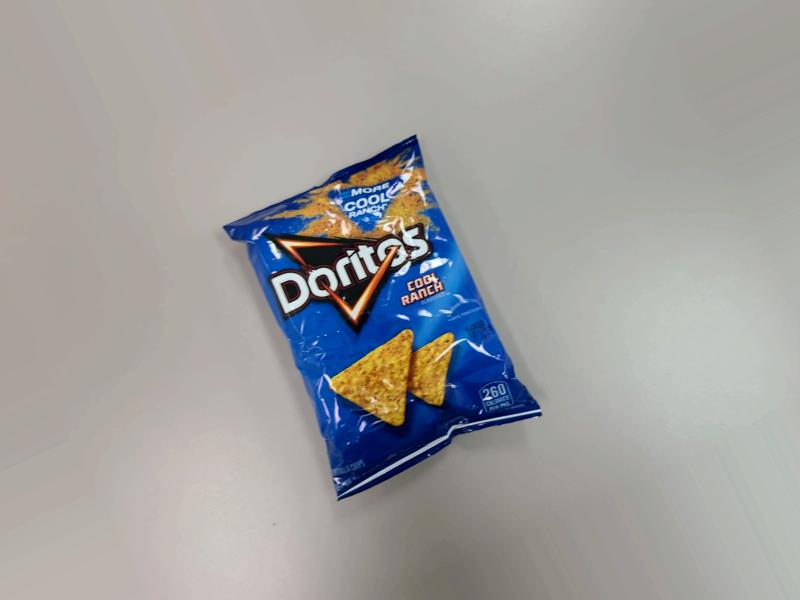doritos: (211, 123, 552, 537)
